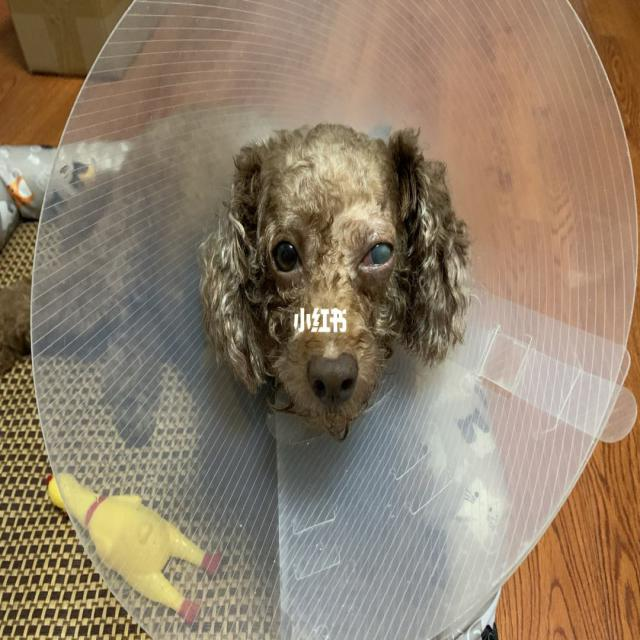eye: (358, 232, 396, 274), (269, 235, 307, 277)
